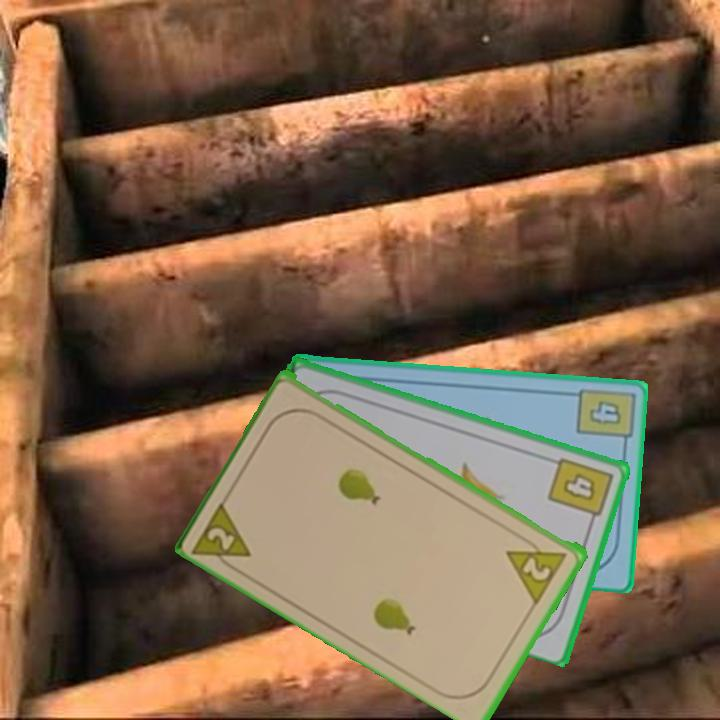2p: (189, 495, 256, 577), (503, 532, 572, 605)
4b: (544, 453, 616, 528), (573, 384, 636, 451)
